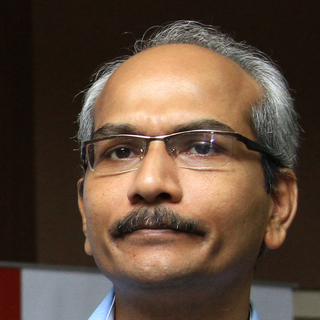eye: (180, 135, 227, 161), (102, 140, 145, 164)
